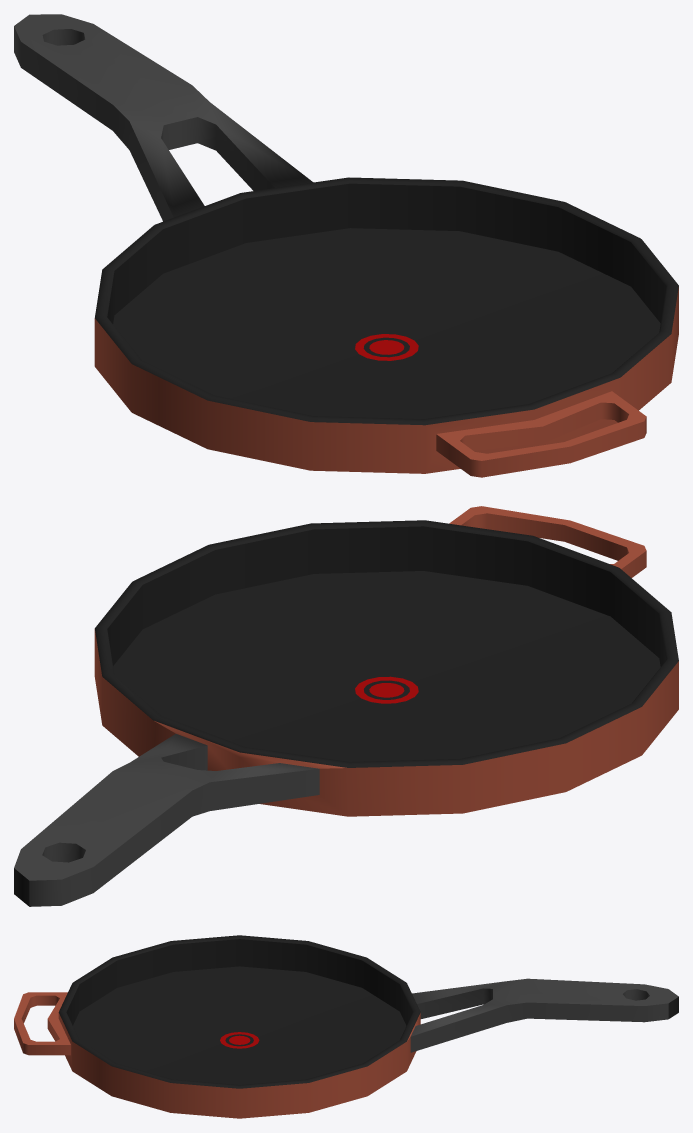
File: frying pan.fbx
The picture shows the model from 3 angles, top to bottom: view 1: azimuth 30°, elevation 25°; view 2: azimuth 150°, elevation 25°; view 3: azimuth 270°, elevation 25°; orthographic projection. The views are drawn at different scales.
Visible parts, largest first — view 1: Circle; view 2: Circle; view 3: Circle.
Boxes of the visible parts, left/top/right/bottom form: Circle: left=14, top=14, right=678, bottom=477; Circle: left=14, top=506, right=678, bottom=906; Circle: left=14, top=935, right=678, bottom=1118.
Bounding box in the file's own units: 247 × 44.99 × 453.
